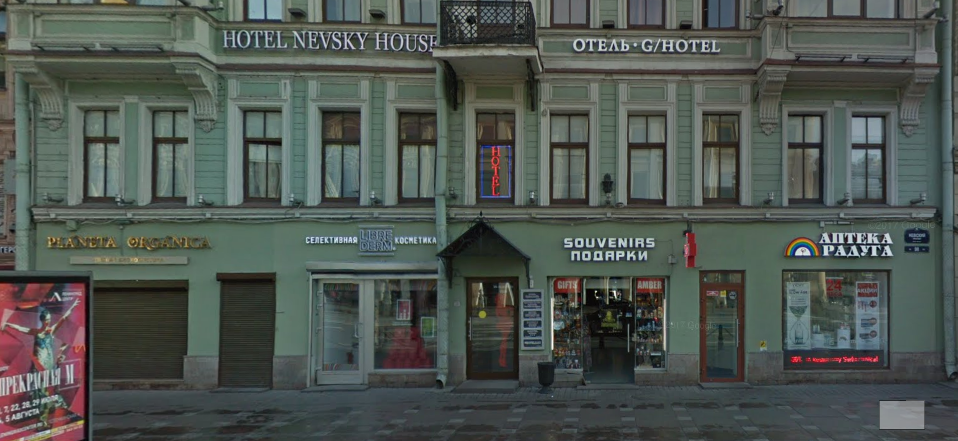cantilever: (678, 231, 696, 269)
door: (219, 273, 270, 389), (318, 282, 372, 390), (699, 272, 745, 385), (467, 279, 516, 381)
signboard: (221, 29, 439, 52), (46, 235, 210, 264), (304, 226, 436, 256), (781, 232, 894, 259), (576, 37, 719, 55), (564, 237, 655, 264)
window: (316, 280, 440, 369), (781, 271, 890, 368), (551, 278, 662, 371), (701, 112, 744, 209), (81, 108, 122, 201), (552, 112, 592, 204), (628, 109, 666, 205), (397, 114, 437, 202), (244, 109, 281, 201), (850, 113, 887, 202), (478, 111, 514, 199), (153, 111, 188, 201), (788, 117, 824, 203), (326, 112, 361, 198)
